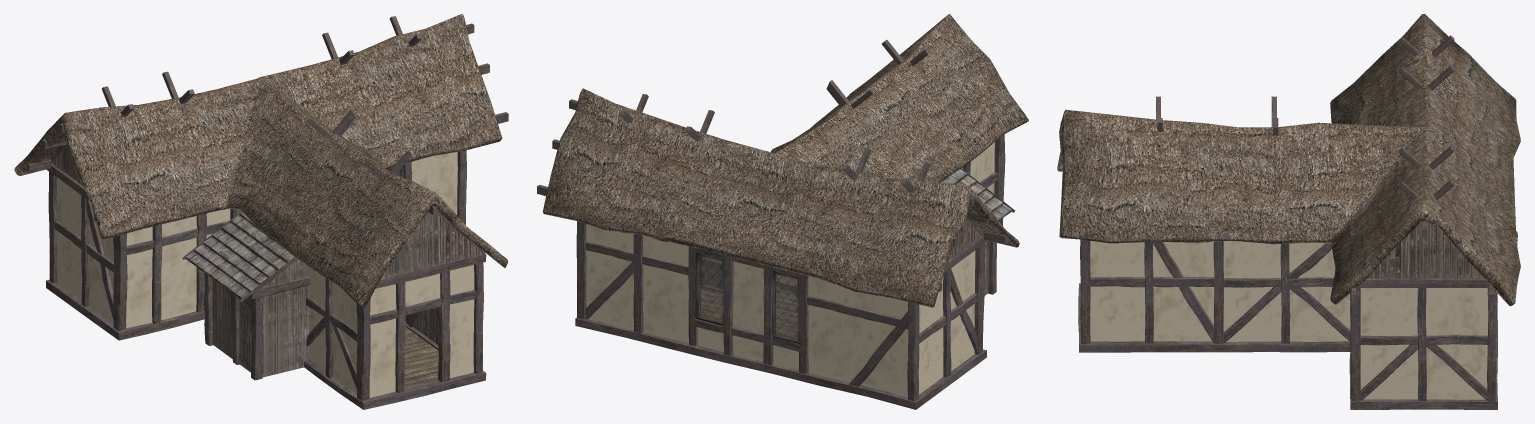
Rendered from case.glb.
3 renders of one model, left to right at view 1: azimuth 30°, elevation 25°; view 2: azimuth 150°, elevation 25°; view 3: azimuth 270°, elevation 25°, orthographic. The views are drawn at different scales.
Visible parts, largest first — view 1: casa_paglia, casa_paglia_aggiunte; view 2: casa_paglia; view 3: casa_paglia.
Boxes of the visible parts, box(x1,y1,x2,y2) form: casa_paglia: box(14, 14, 508, 409); casa_paglia_aggiunte: box(161, 237, 196, 320); casa_paglia: box(537, 14, 1028, 409); casa_paglia: box(1057, 14, 1520, 409).
Size of the model in its own units: 11.56 by 5.99 by 10.87.
Materials: 9 (9 with a texture image).
